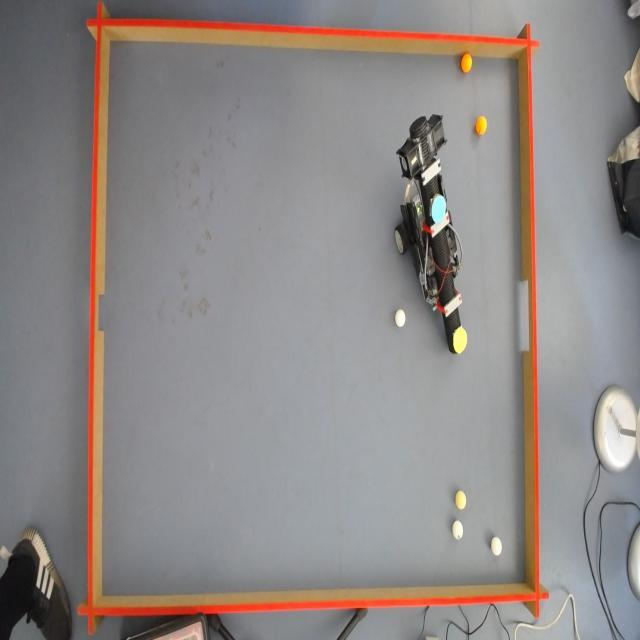orange: (462, 53, 475, 74)
robot: (397, 122, 465, 330), (610, 125, 637, 244)
robot-front: (428, 193, 448, 225), (451, 330, 468, 352)
white: (490, 536, 504, 558), (452, 517, 464, 541), (477, 116, 490, 134), (455, 491, 465, 511), (396, 308, 406, 327)
